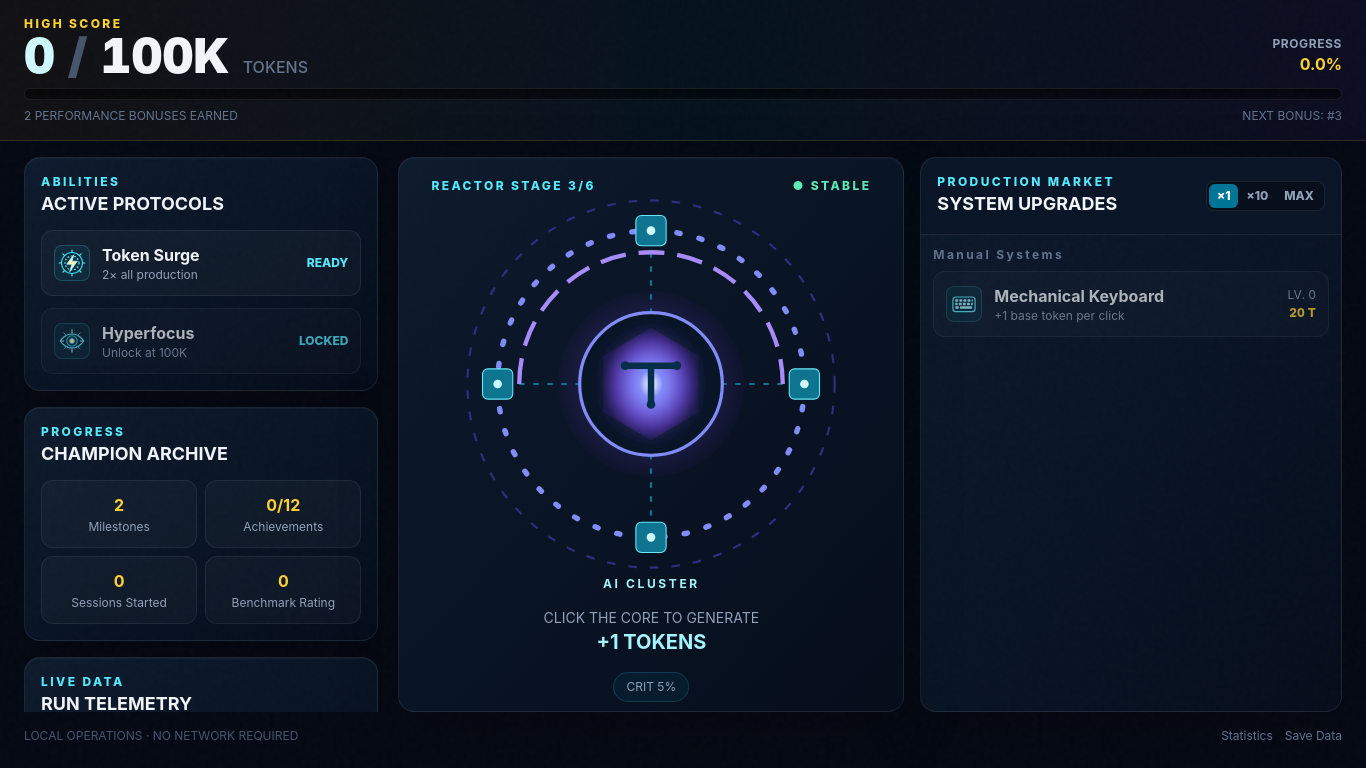
Scenario: Tokenmaxxer dashboard › opens the archive and statistics from every dashboard shortcut
The image size is (1366, 768).
Click the button named "2Milestones".
click(119, 514)  # box [41,480,197,548]
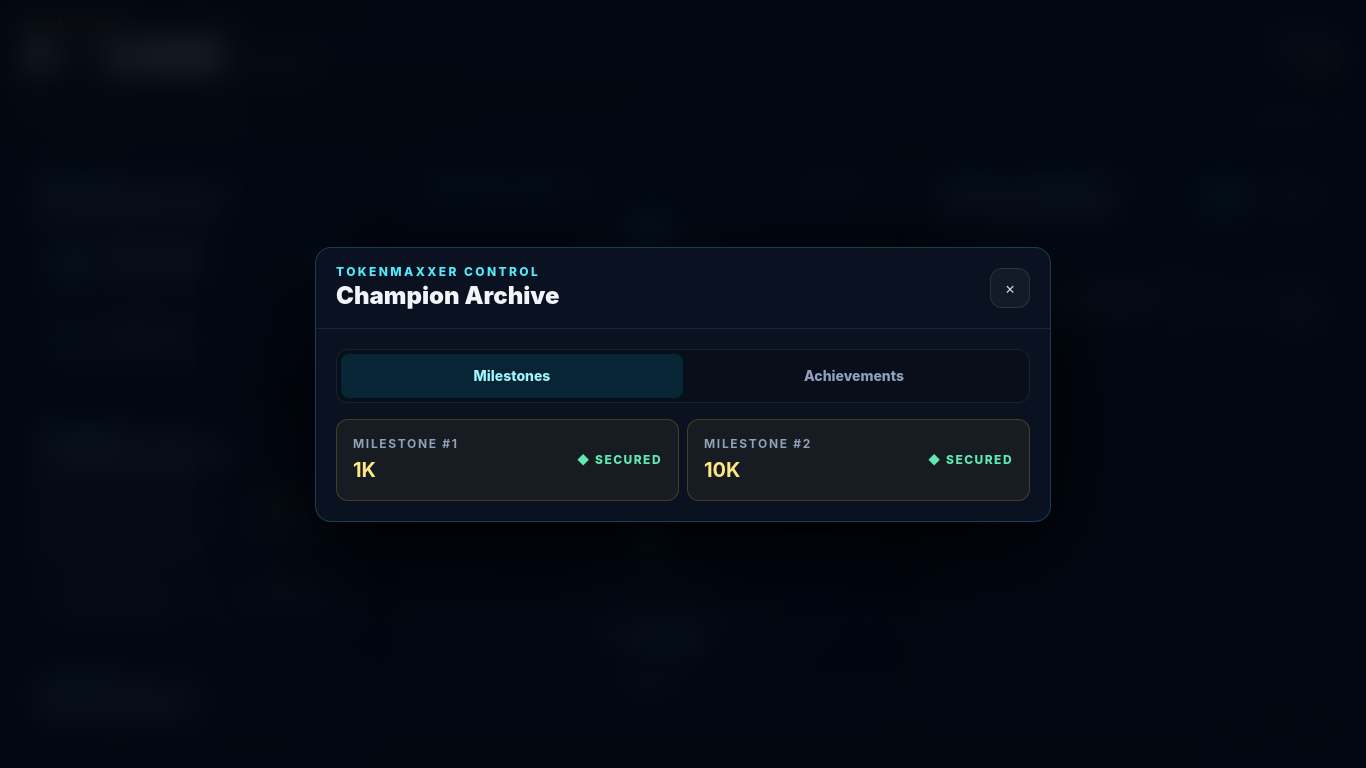
Result: the tab "Milestones" is shown at [341,354,683,398]
Click the button named "Close dialog".
click(1010, 288)  # box [990,268,1030,308]
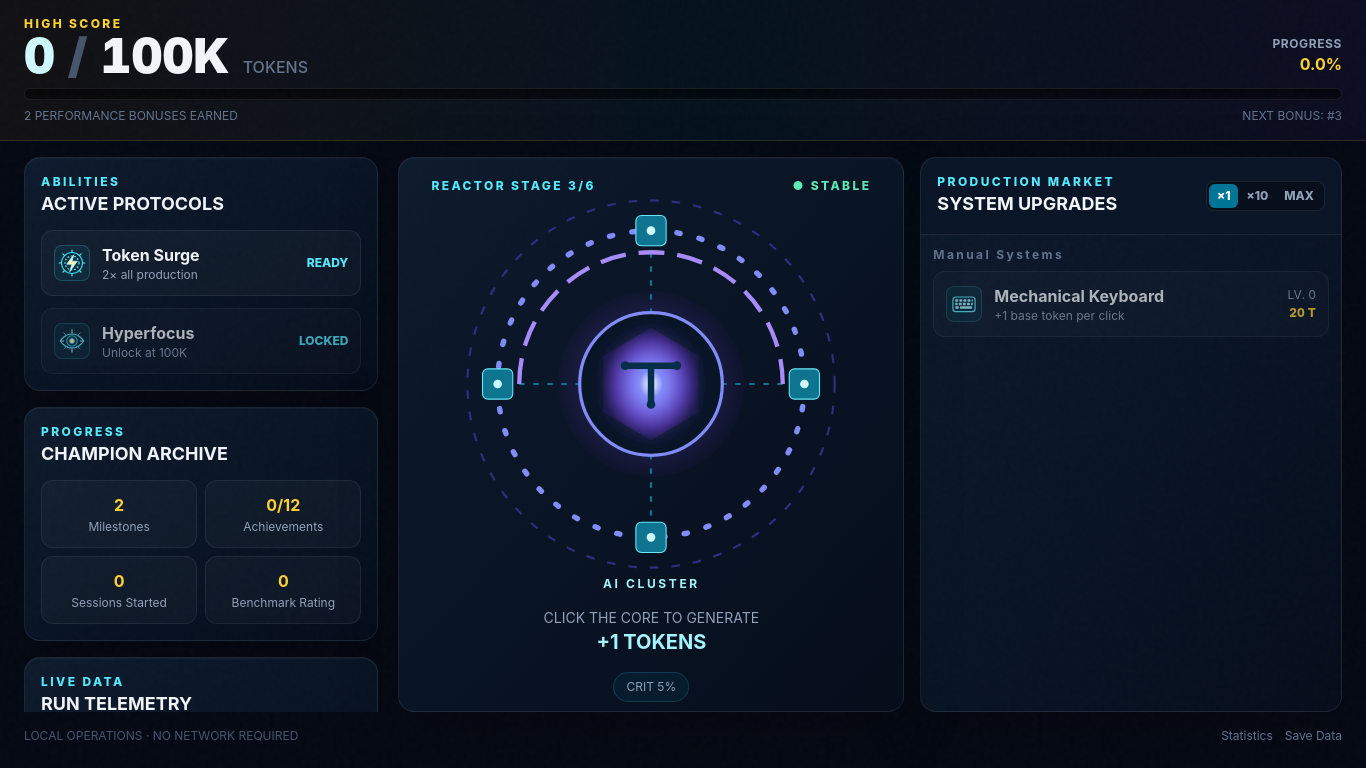
Click the button named "0/12Achievements".
click(283, 514)  # box [205,480,361,548]
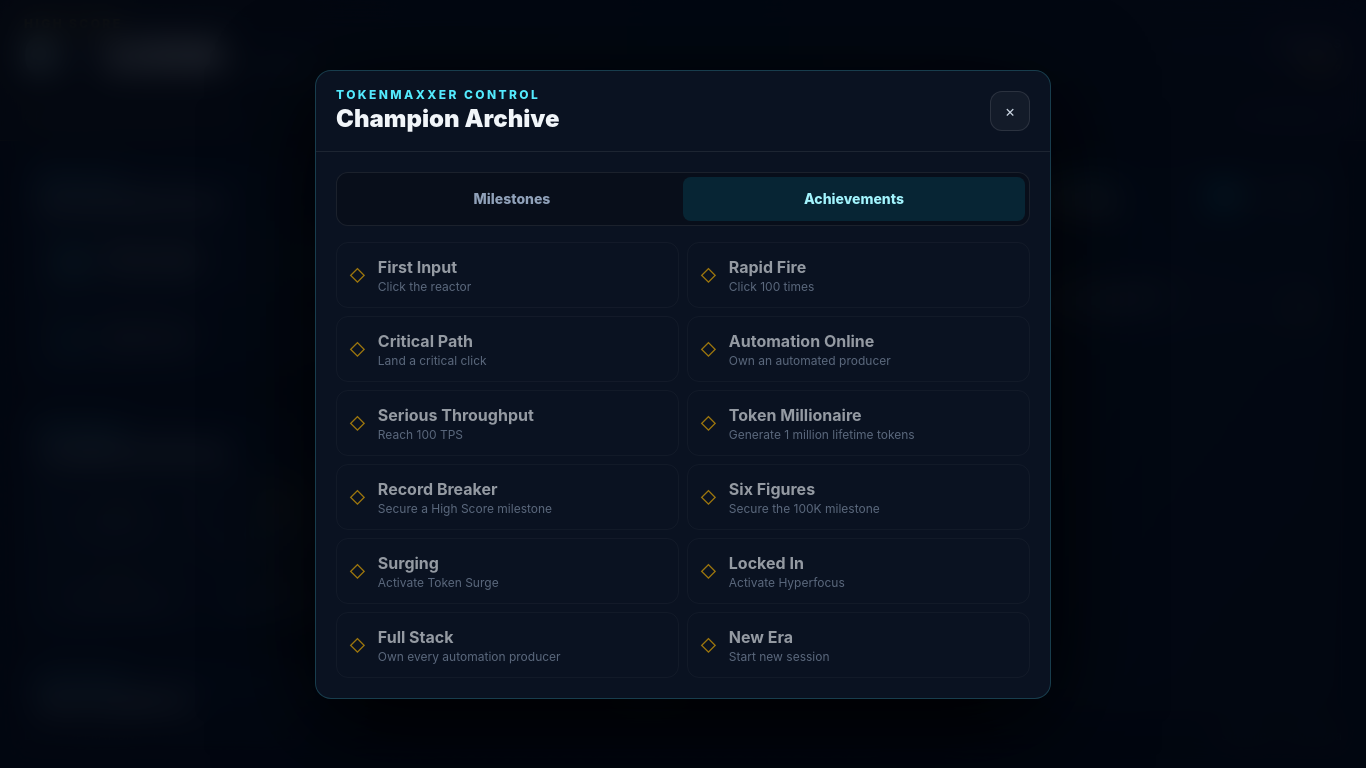
Result: the tab "Achievements" is shown at [683,176,1025,220]
Click the button named "Close dialog".
click(1010, 110)  # box [990,90,1030,130]
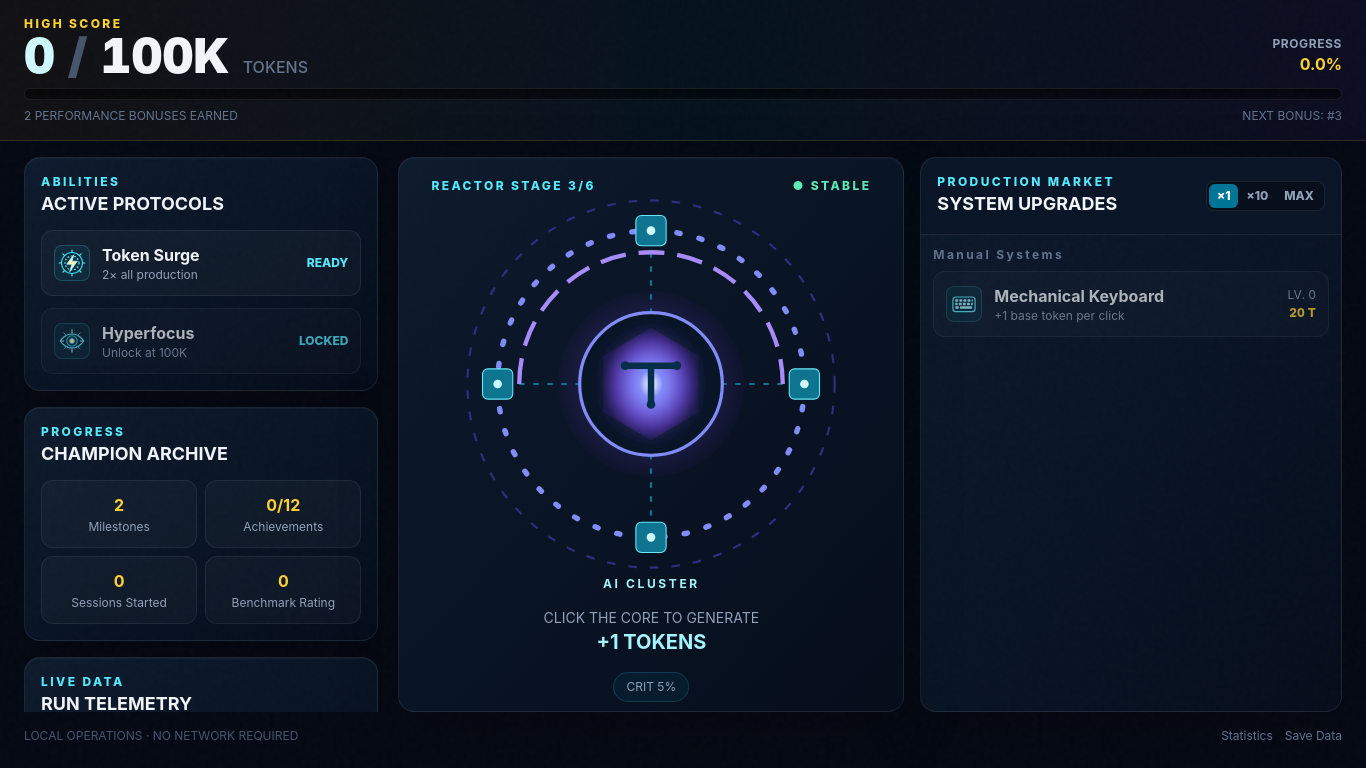
Click the button named "0Sessions Started".
click(119, 590)  # box [41,556,197,624]
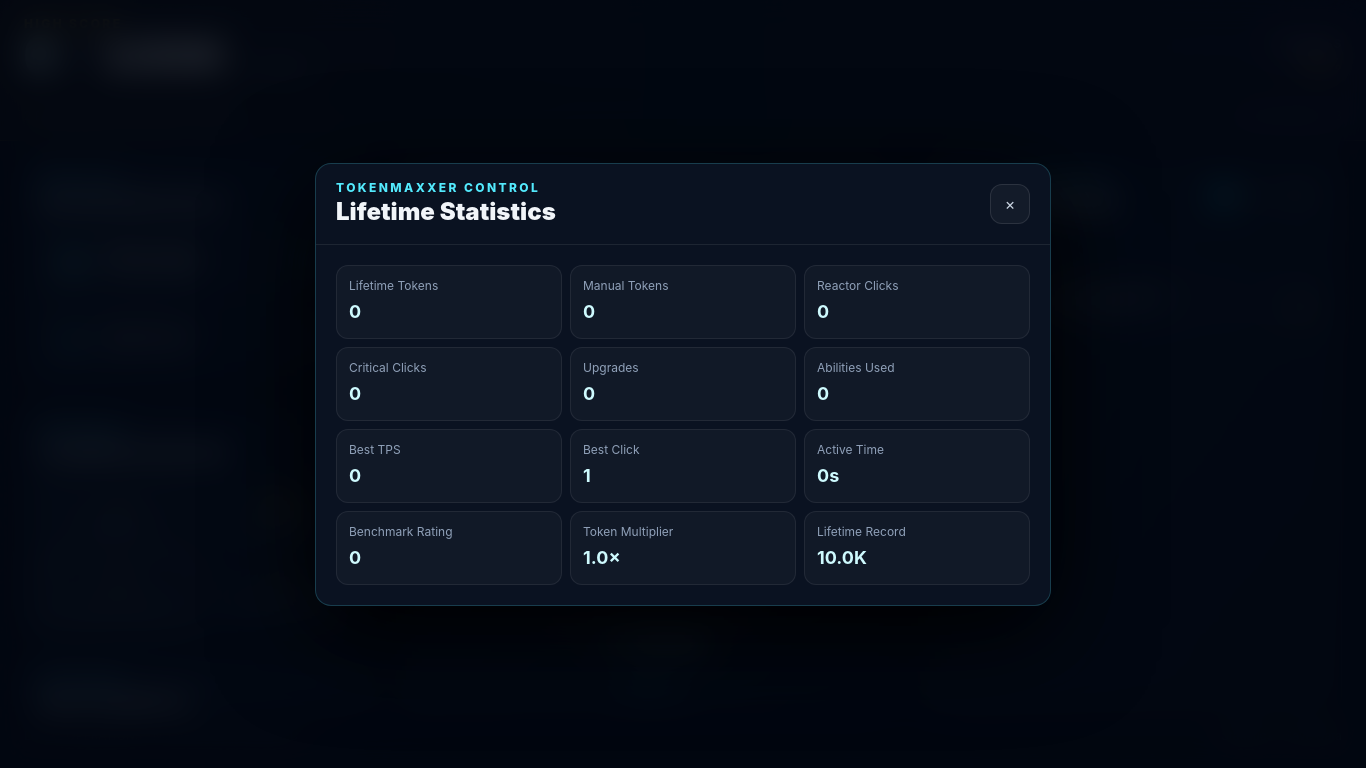
Result: the dialog shows "Lifetime Statistics" at [336,196,556,226]
